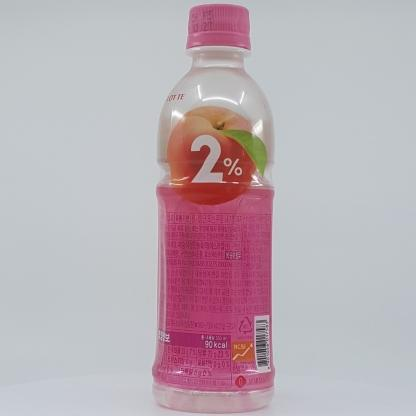--2_---350ML: (151, 3, 276, 414)
